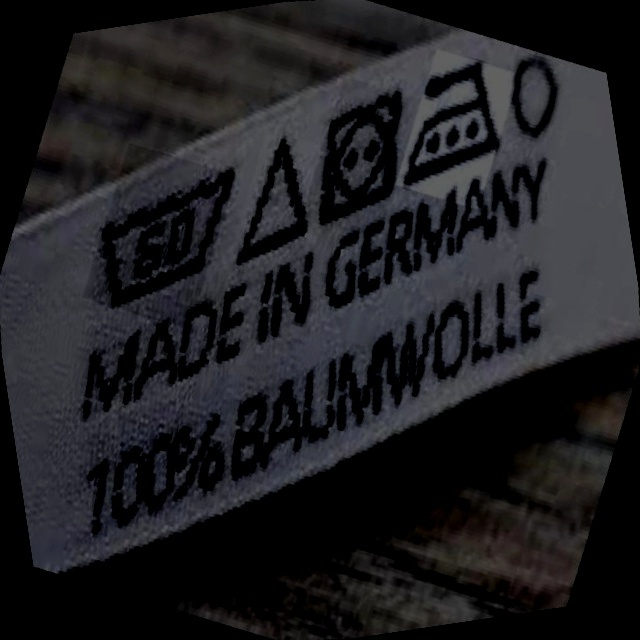60C: (70, 149, 256, 317)
bleach: (224, 126, 326, 271)
iron_high: (389, 46, 517, 195)
tumble_dry_medium: (302, 78, 419, 228)
